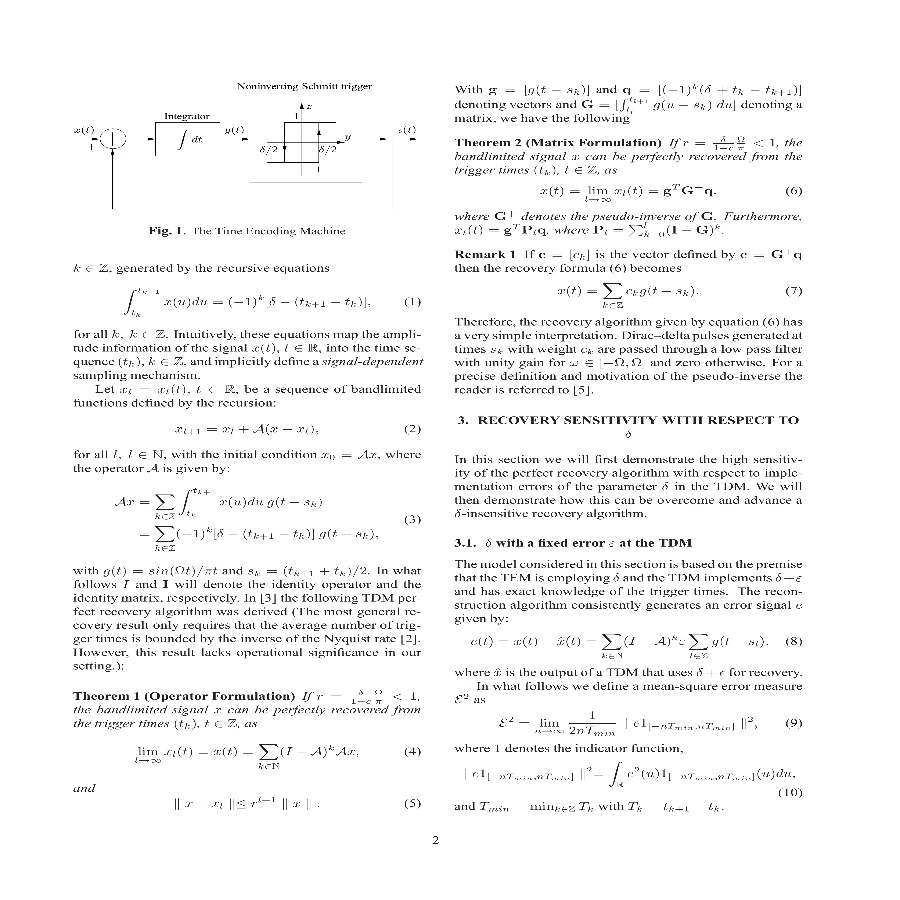eq: (462, 759, 794, 789), (461, 631, 766, 659), (121, 286, 367, 319), (112, 485, 324, 522), (499, 709, 754, 738), (129, 741, 358, 773), (138, 524, 375, 551), (552, 279, 696, 310), (535, 183, 714, 205), (173, 421, 315, 441), (170, 794, 316, 813)
